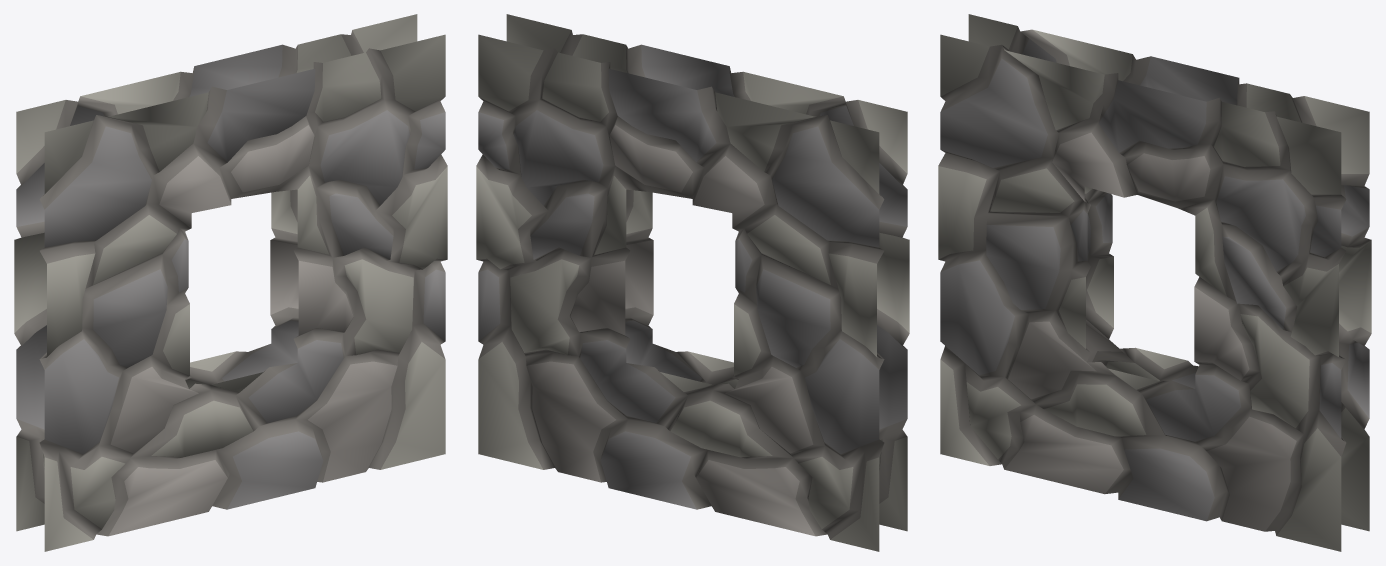
File: rpgpp_ag_wall_03_3x3_window_d.fbx
3 views of the same model, side by side, from view 1: azimuth 30°, elevation 25°; view 2: azimuth 150°, elevation 25°; view 3: azimuth 330°, elevation 25° (orthographic).
Visible parts, largest first — view 1: rpgpp_ag_wall_03_3x3_window_d; view 2: rpgpp_ag_wall_03_3x3_window_d; view 3: rpgpp_ag_wall_03_3x3_window_d.
Part boxes in pixels (<box>): rpgpp_ag_wall_03_3x3_window_d: <box>14,14,447,551</box>; rpgpp_ag_wall_03_3x3_window_d: <box>476,14,909,551</box>; rpgpp_ag_wall_03_3x3_window_d: <box>938,14,1371,551</box>.
Size of the model in its own units: 3 by 3 by 0.4237.
